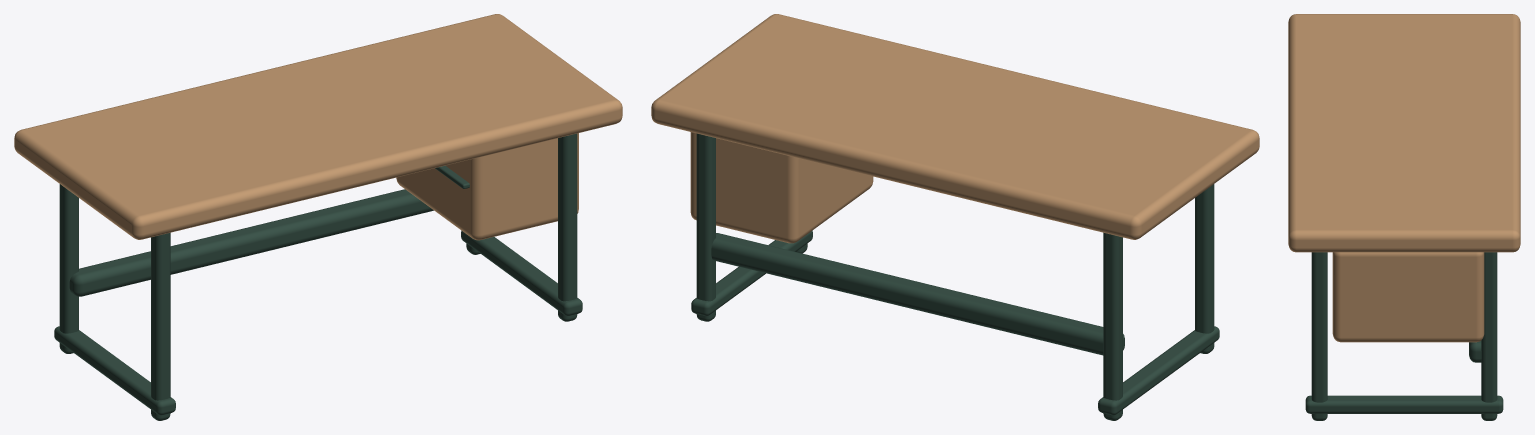
Rendered from oak-workstation.glb.
The picture shows the model from 3 angles, left to right: view 1: azimuth 30°, elevation 25°; view 2: azimuth 150°, elevation 25°; view 3: azimuth 270°, elevation 25°; orthographic projection. The views are drawn at different scales.
Parts seen in each view (by area): view 1: oak-workstation; view 2: oak-workstation; view 3: oak-workstation.
Part boxes in pixels (<box>): oak-workstation: <box>14,14,622,420</box>; oak-workstation: <box>651,14,1259,420</box>; oak-workstation: <box>1288,14,1520,420</box>.
Size of the model in its own units: 2.6 by 1.12 by 1.15.
